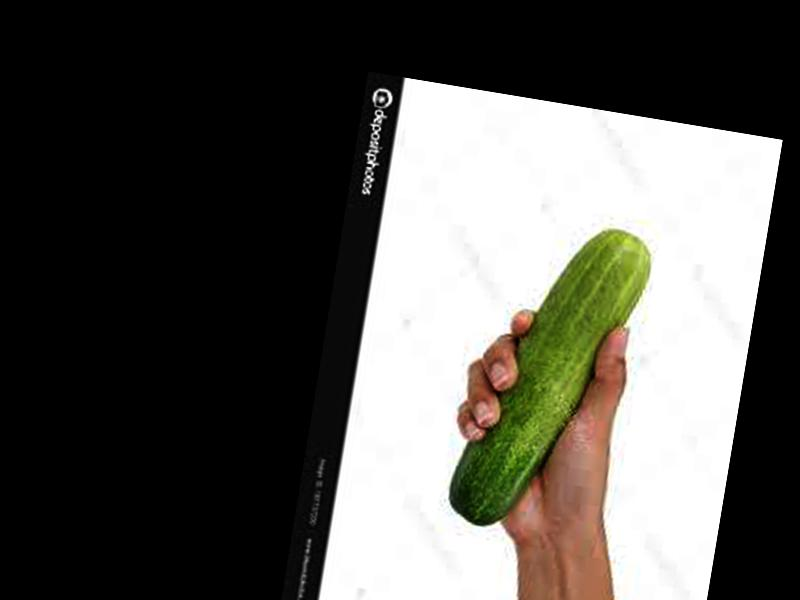Cucumber: (446, 211, 657, 547)
